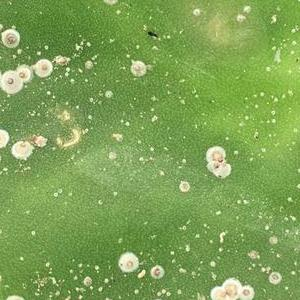Femea: (33, 61, 50, 74), (3, 75, 16, 90), (15, 67, 28, 82), (239, 286, 252, 299)
Linfa: (30, 269, 42, 287), (21, 281, 37, 293), (66, 267, 78, 282), (258, 265, 272, 274), (48, 274, 58, 285), (61, 66, 70, 78), (75, 260, 86, 269), (235, 198, 249, 205), (218, 231, 226, 243), (181, 242, 189, 253), (90, 264, 100, 272), (212, 208, 223, 215), (208, 259, 216, 267), (258, 90, 265, 98), (272, 95, 279, 103), (131, 286, 138, 294), (44, 261, 51, 268), (160, 286, 165, 295), (167, 250, 174, 256), (155, 289, 160, 296), (165, 289, 170, 296), (88, 285, 93, 290)
Macho: (136, 268, 146, 279)
